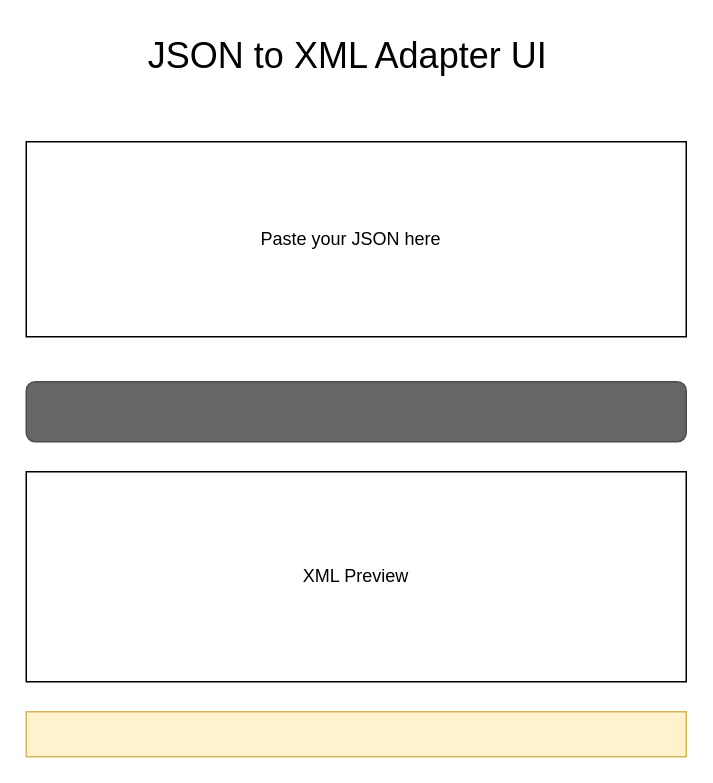
The diagram is 713 pixels wide and 783 high, and some of its shapes have lost their labels. Each missing label, with the box of its shape:
Convert and Send: (25, 380, 686, 442)
✅ or ❌ Status Message Here: (25, 710, 686, 757)
